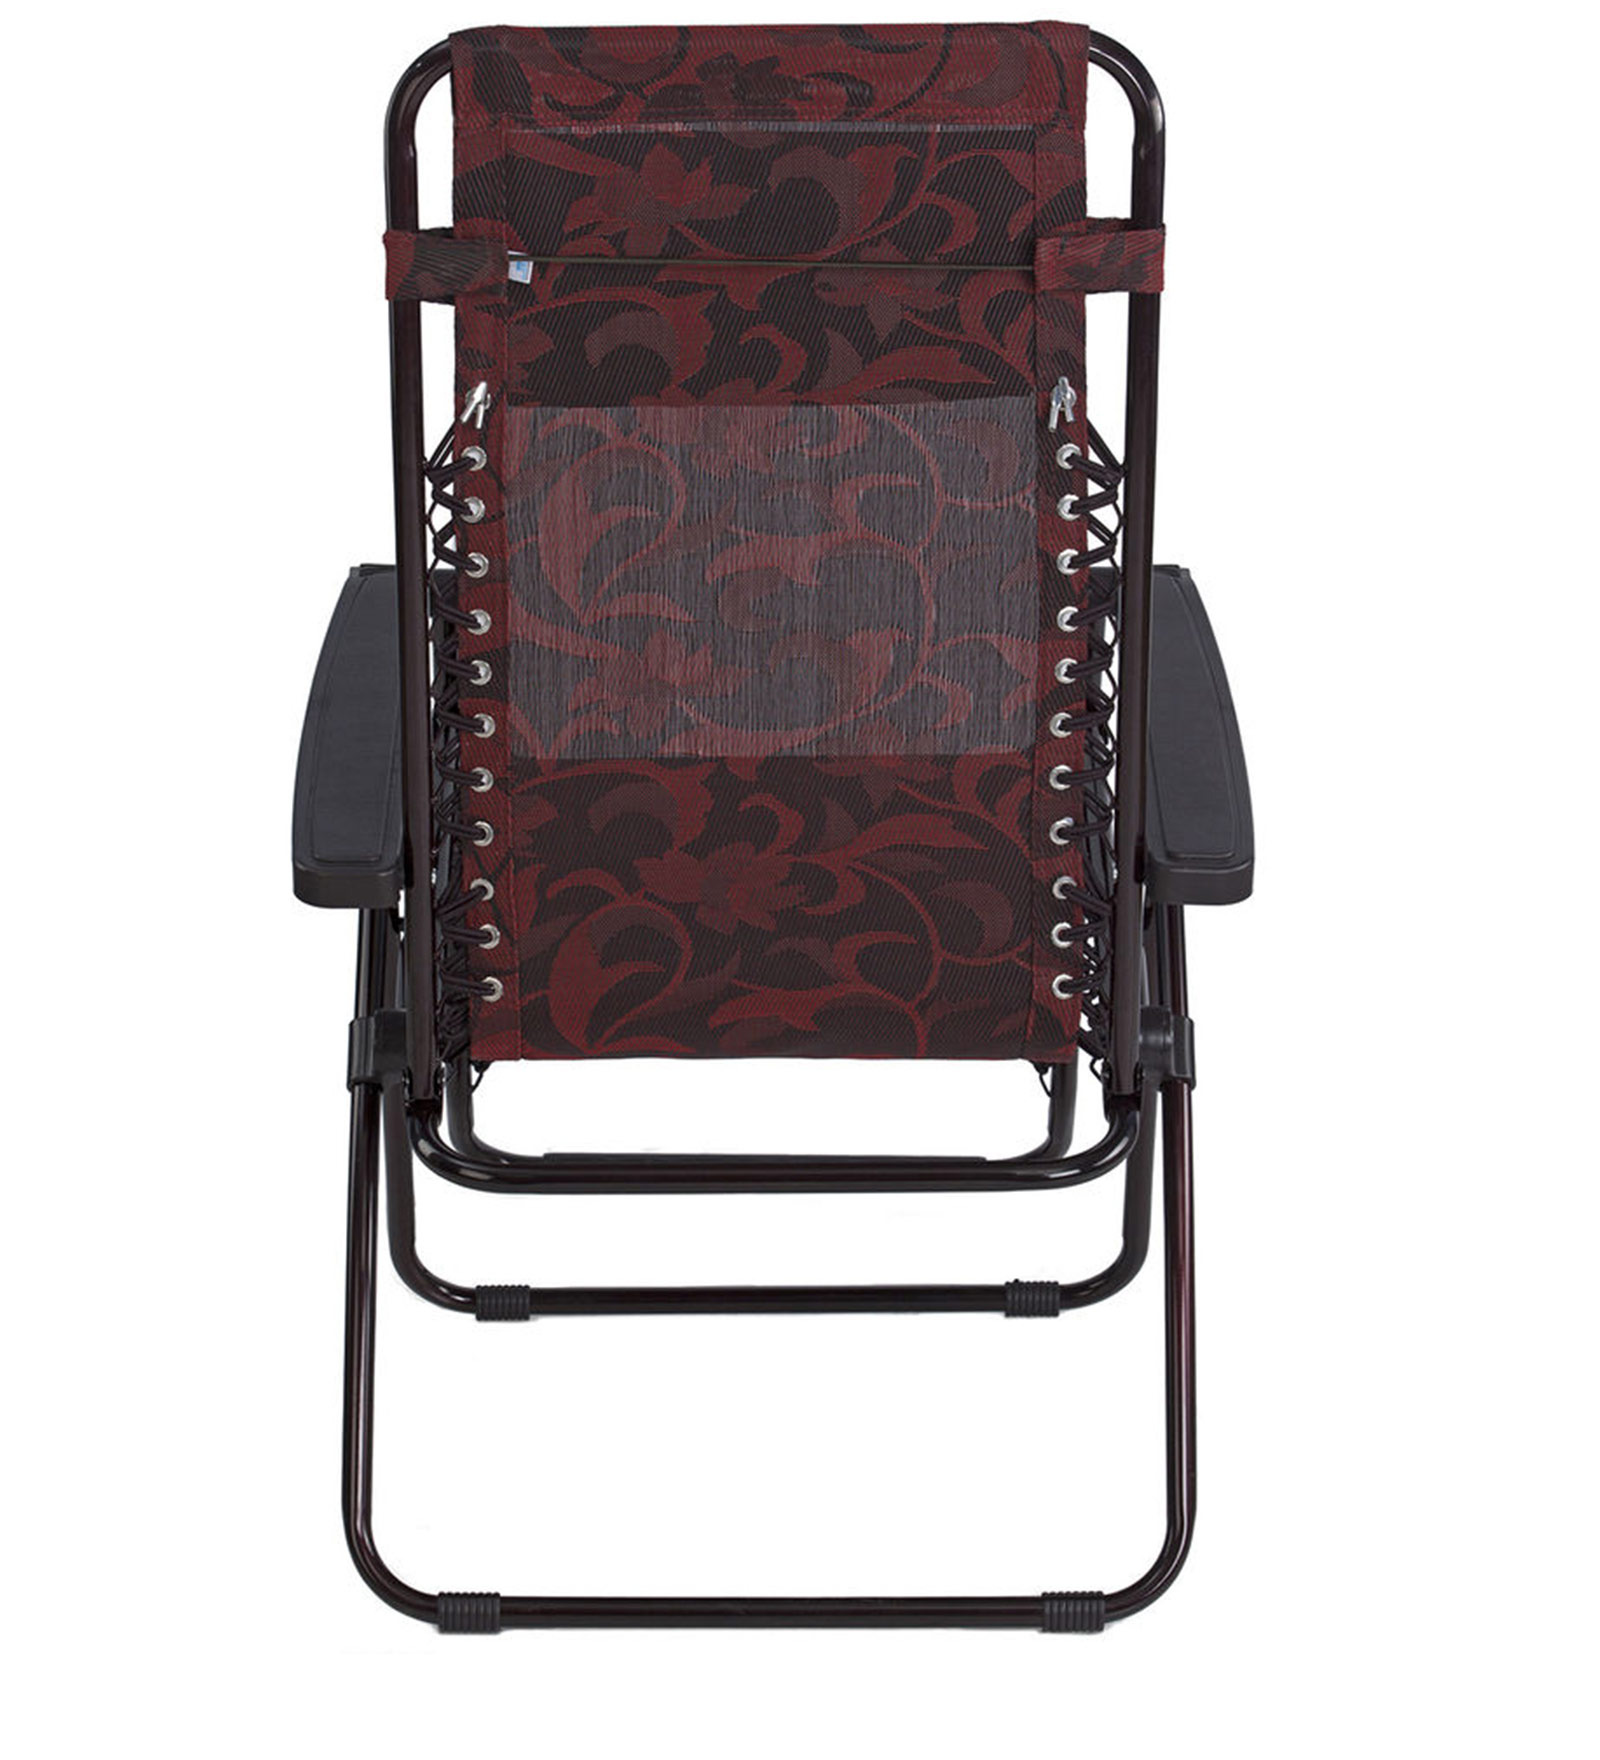Frolic Easy Foldable Chair in Purple & Red Colour by Nilkamal: (254, 15, 1277, 1660)
